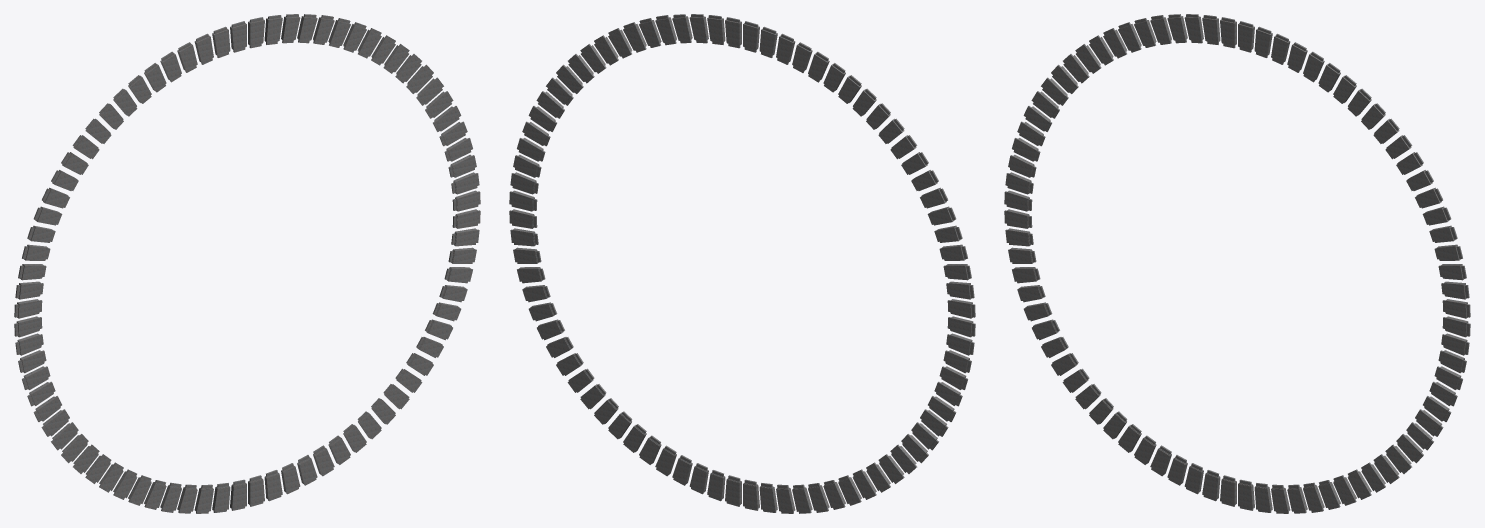
The model's file is Supergate.dae.
3 renders of one model, left to right at view 1: azimuth 30°, elevation 25°; view 2: azimuth 150°, elevation 25°; view 3: azimuth 330°, elevation 25°, orthographic.
Parts seen in each view (by area): view 1: Group1; view 2: Group1; view 3: Group1.
Boxes of the visible parts, left/top/right/bottom form: Group1: left=14, top=14, right=480, bottom=513; Group1: left=509, top=14, right=975, bottom=513; Group1: left=1004, top=14, right=1470, bottom=513.
Bounding box in the file's own units: 47492 × 414 × 47455.
